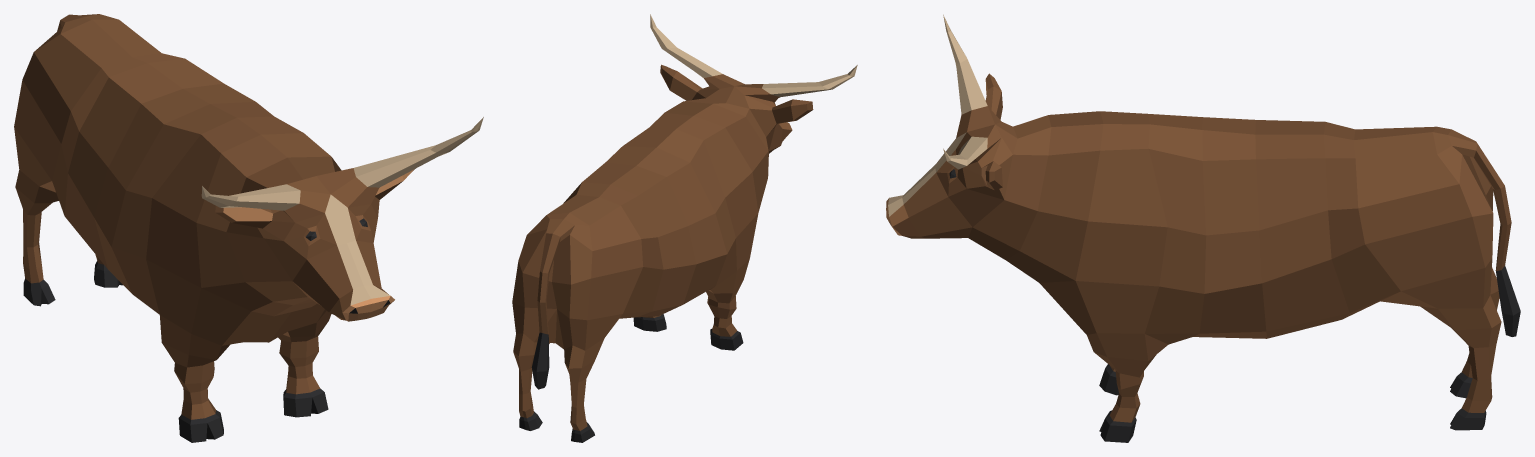
The model's file is Bull.fbx.
3 views of the same model, side by side, from view 1: azimuth 30°, elevation 25°; view 2: azimuth 150°, elevation 25°; view 3: azimuth 270°, elevation 25° (orthographic). The views are drawn at different scales.
Visible parts, largest first — view 1: Mesh; view 2: Mesh; view 3: Mesh.
Part boxes in pixels (x1,y1,x2,y2): Mesh: [14, 14, 483, 442]; Mesh: [512, 14, 857, 442]; Mesh: [886, 14, 1520, 442].
Size of the model in its own units: 1.47 by 1.69 by 2.94.
